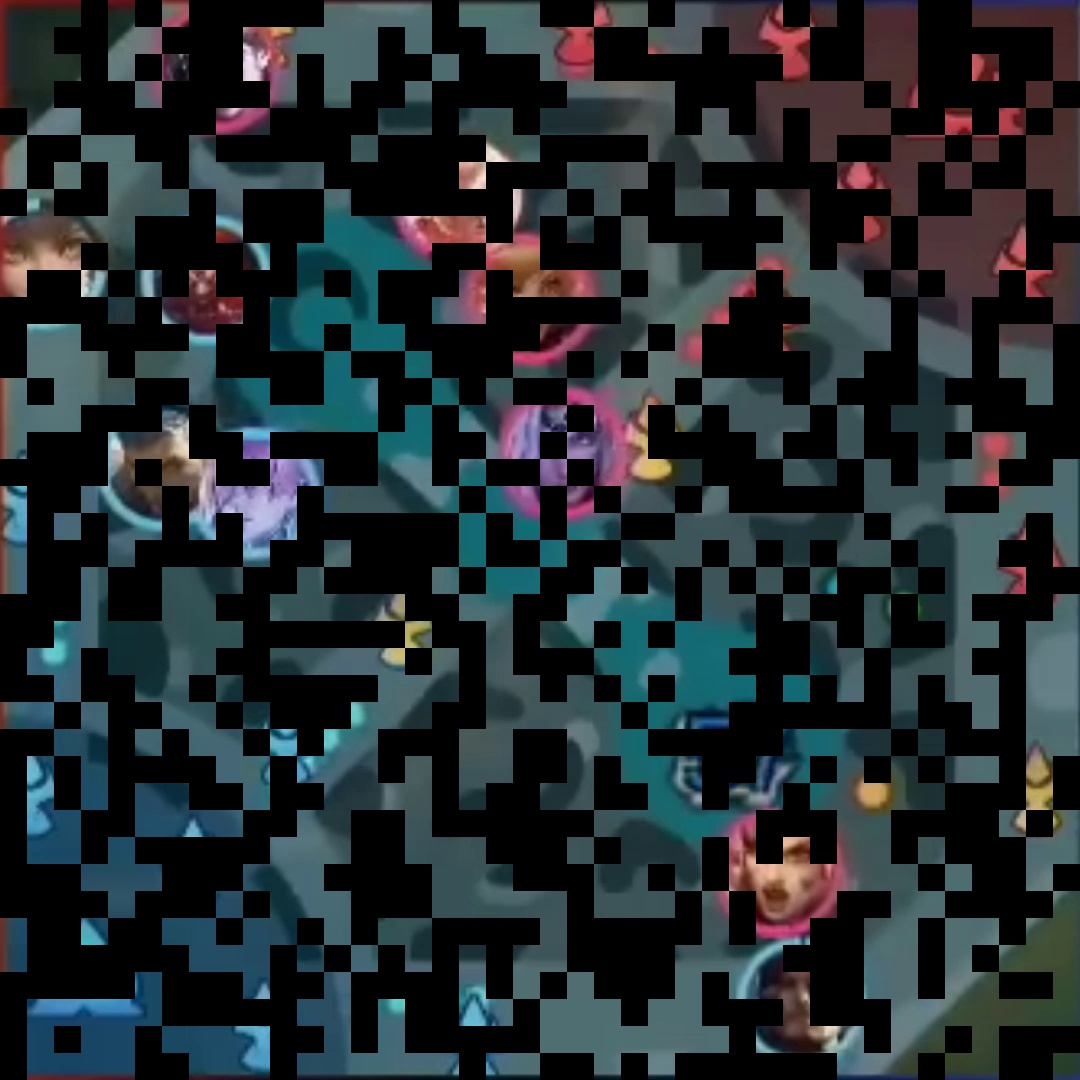Chou: (414, 156, 496, 249)
Claude: (178, 24, 256, 115)
Fanny: (483, 246, 570, 346)
Fredrinn: (116, 414, 197, 515)
Lapu-Lapu: (761, 953, 841, 1046)
Masha: (741, 818, 823, 924)
Minotaur: (168, 230, 246, 331)
Novaria: (211, 438, 292, 545)
Valentina: (526, 409, 605, 501)
Wanwan: (1, 216, 83, 313)
